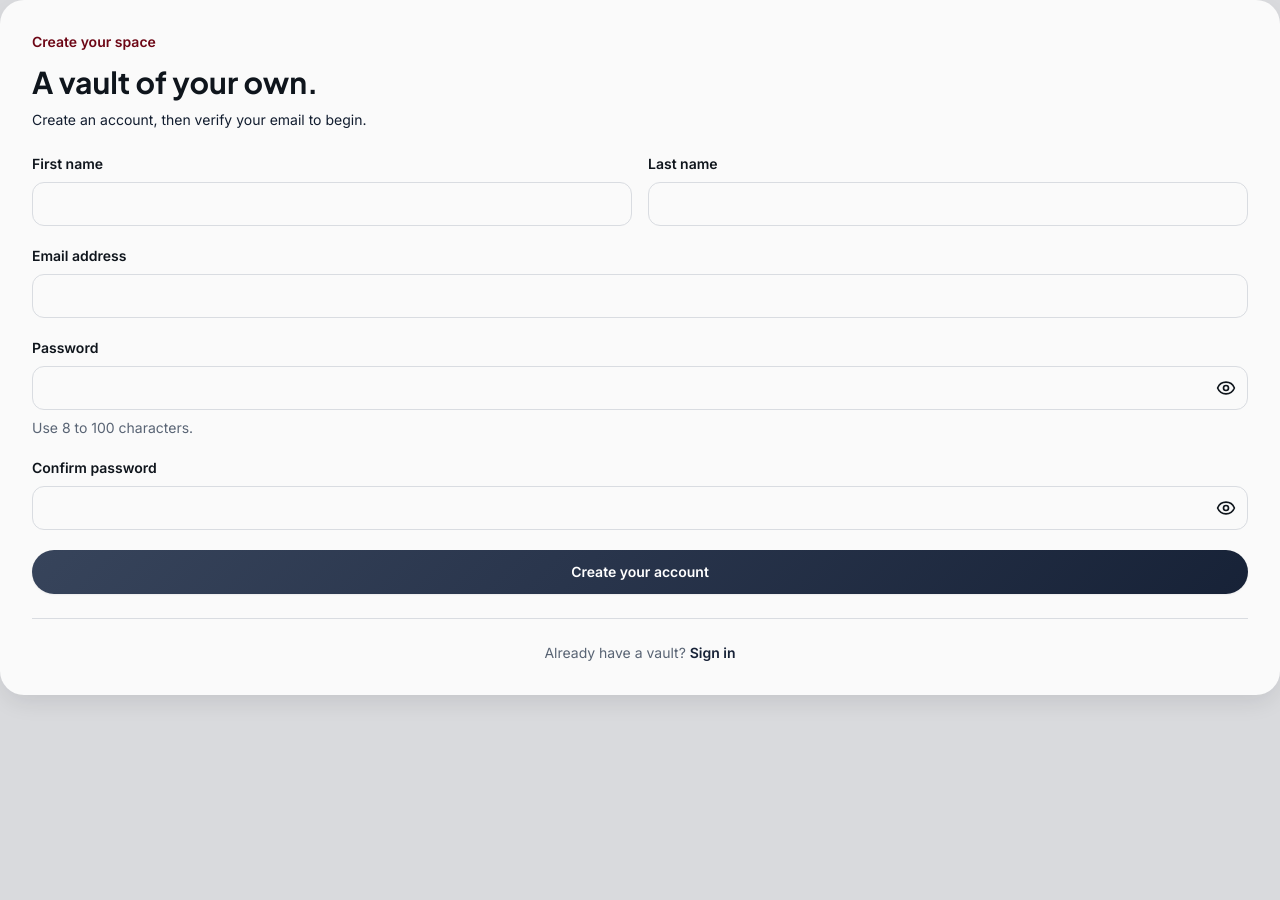
it: RegisterPage › maps duplicate registration to the email field without exposing server text
Type "Ava" into the field labelled "First name" at (332,204), box [32, 182, 632, 226]
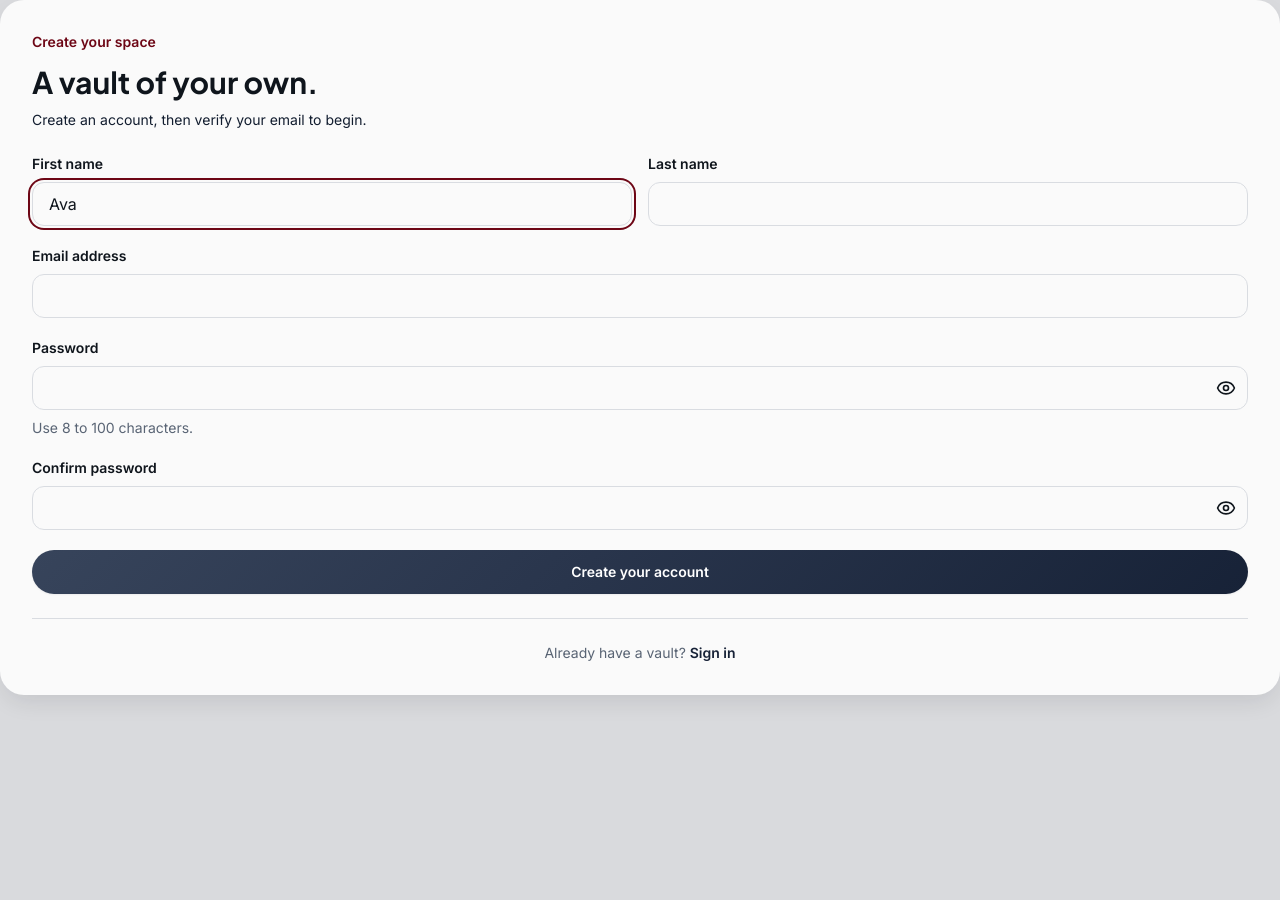
Type "Khan" into the field labelled "Last name" at (948,204), box [648, 182, 1248, 226]
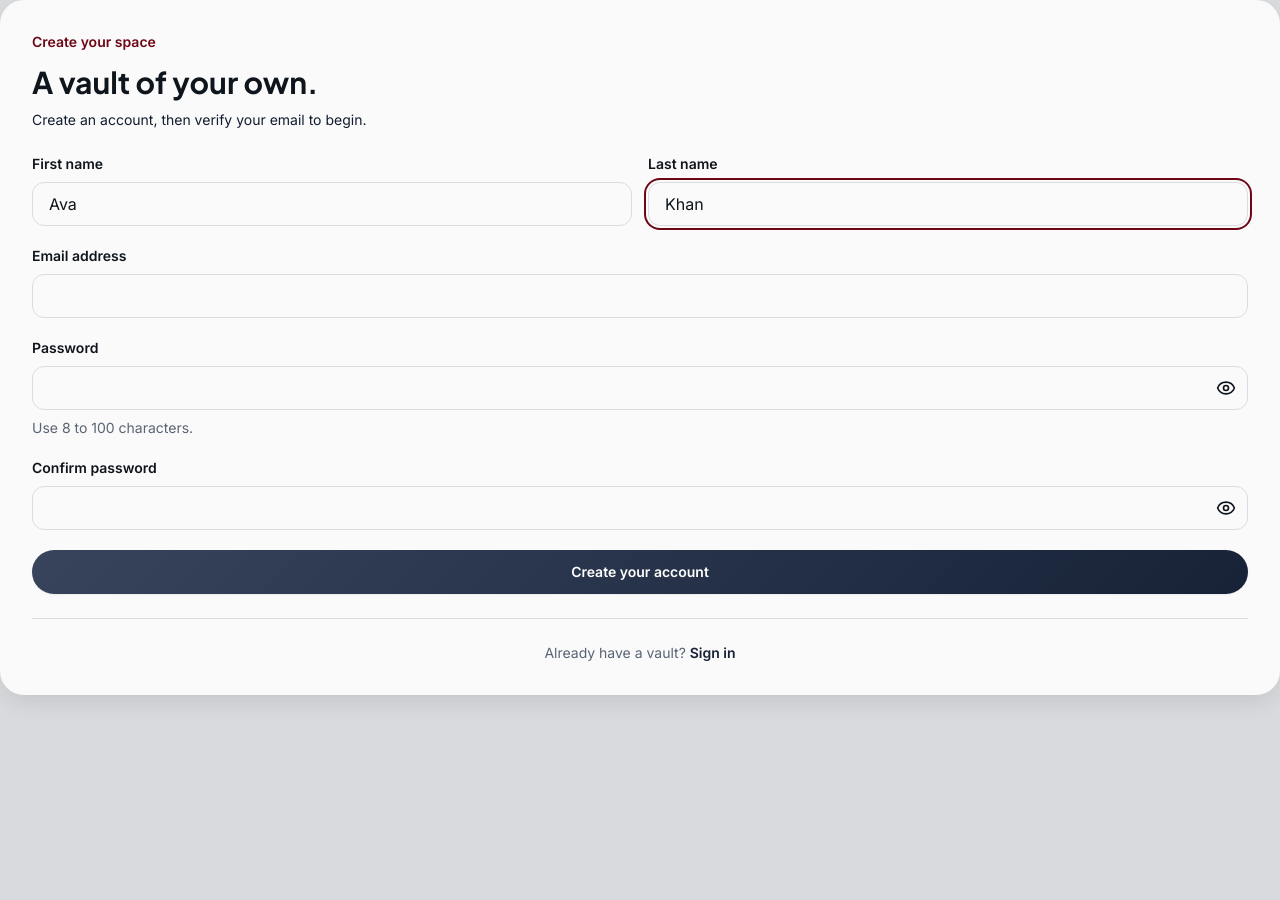
Type "ava@example.com" into the field labelled "Email address" at (640,296), box [32, 274, 1248, 318]
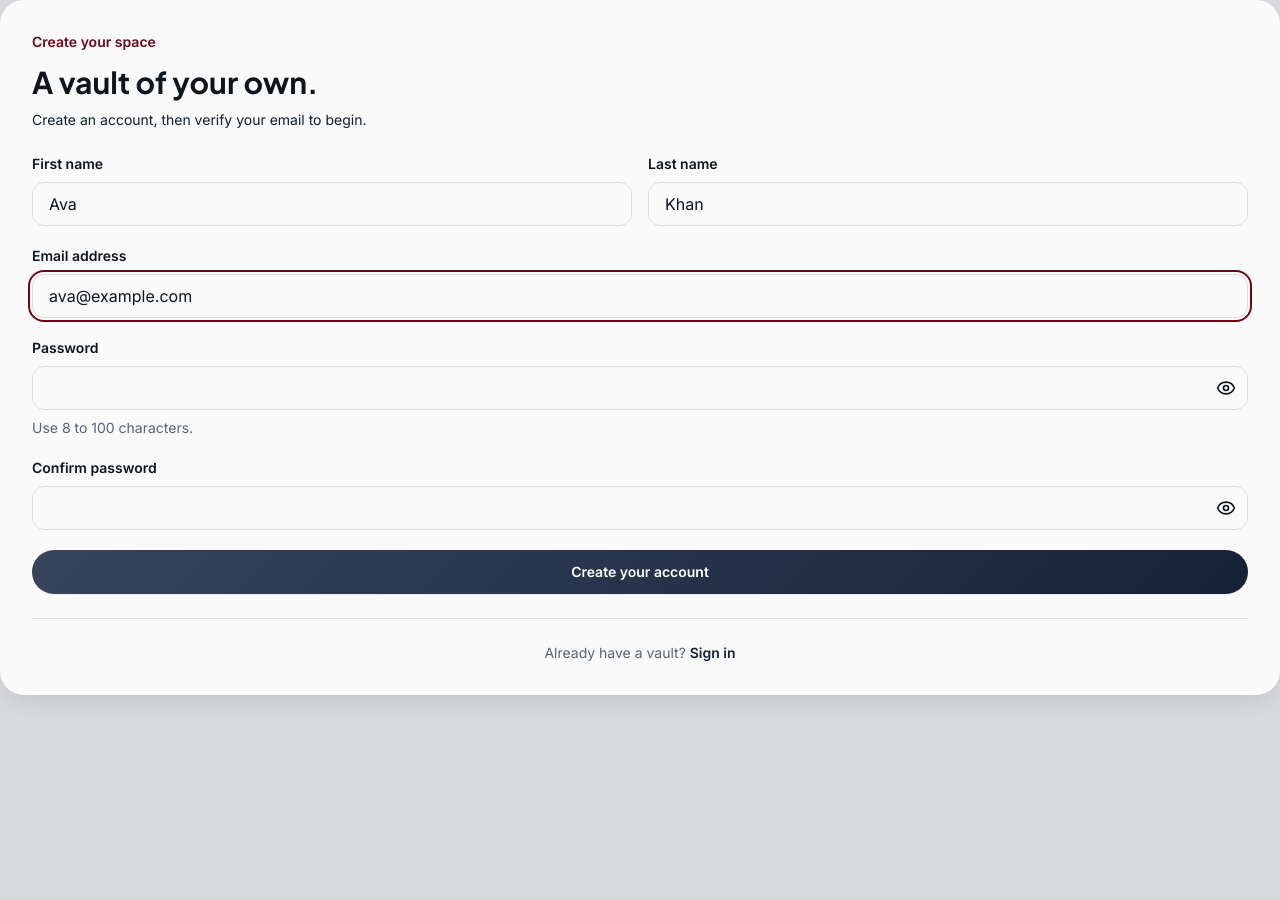
Type "long-enough" into the password field labelled "Password" at (640,388), box [32, 366, 1248, 410]
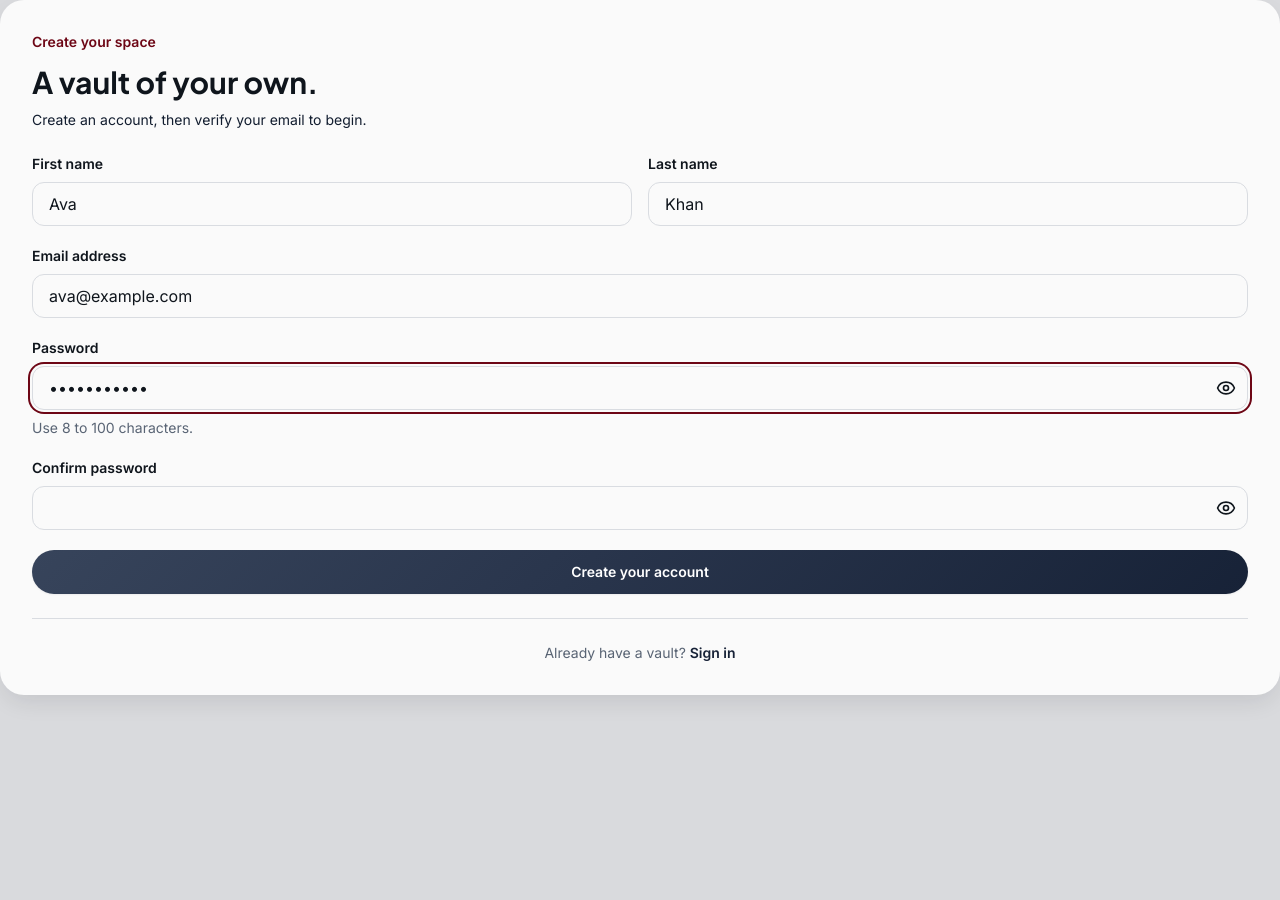
Type "long-enough" into the password field labelled "Confirm password" at (640,508), box [32, 486, 1248, 530]
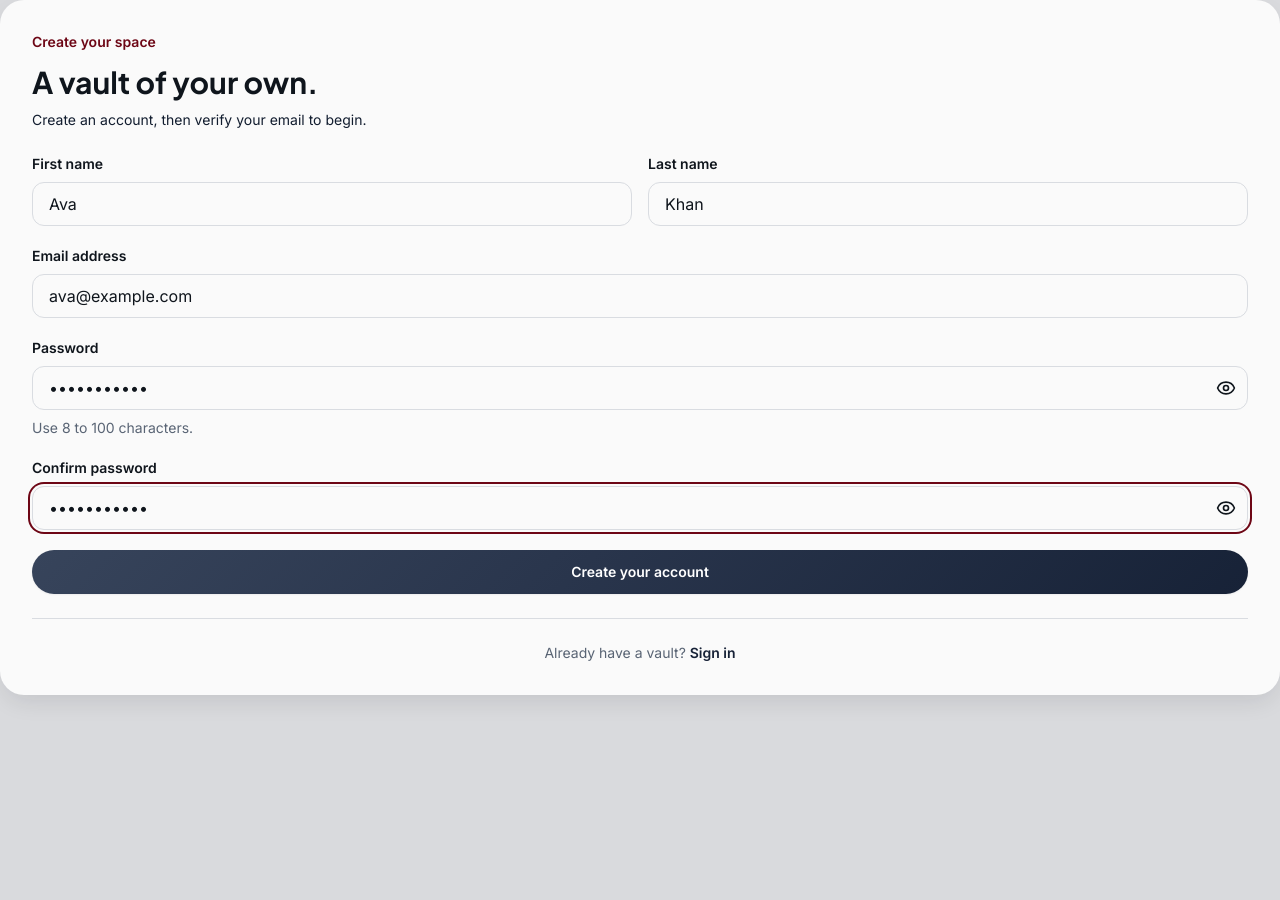
Click the button "Create your account" at (640,572), box [32, 550, 1248, 594]
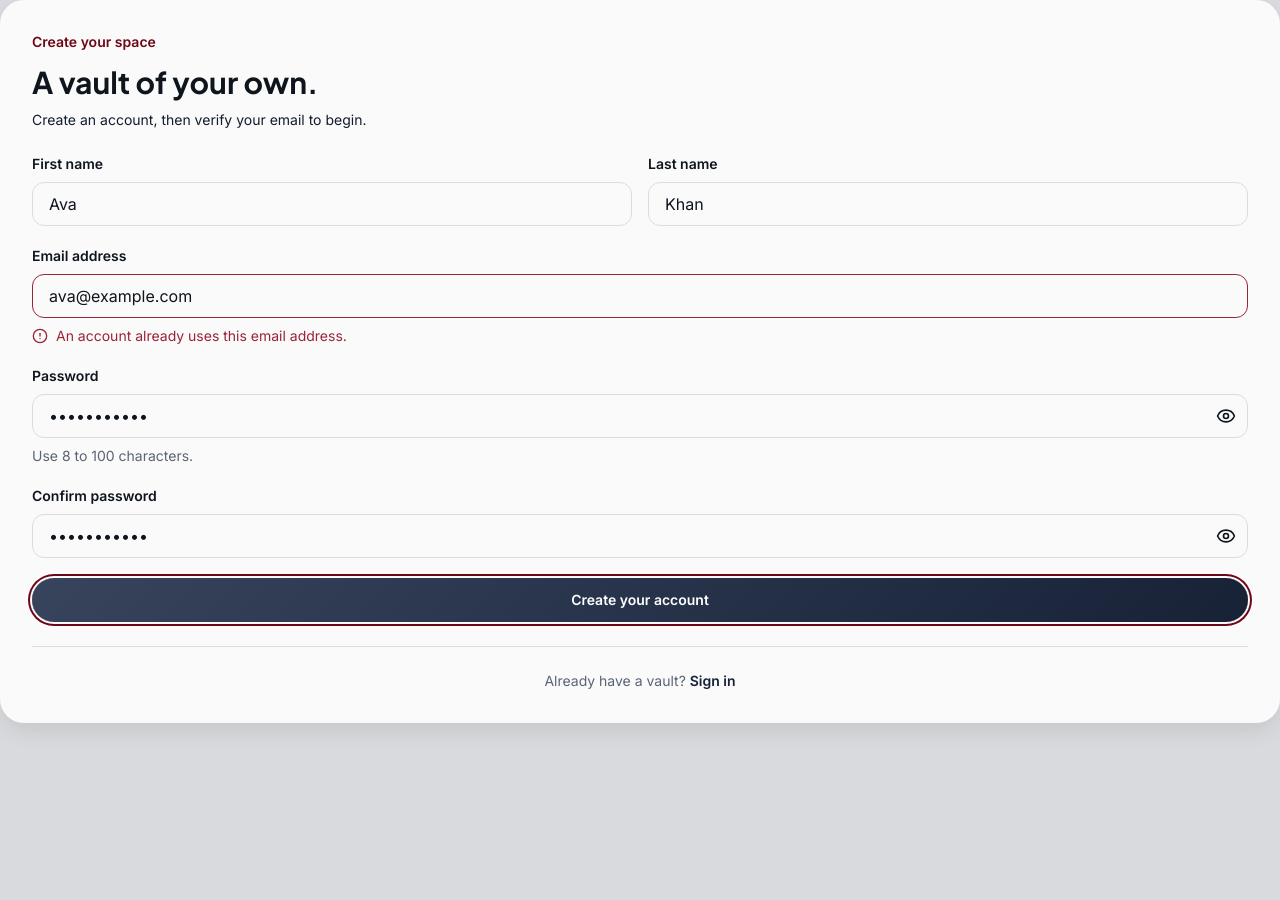
Expected: the text "An account already uses this email address." is shown, [32, 326, 347, 344]
